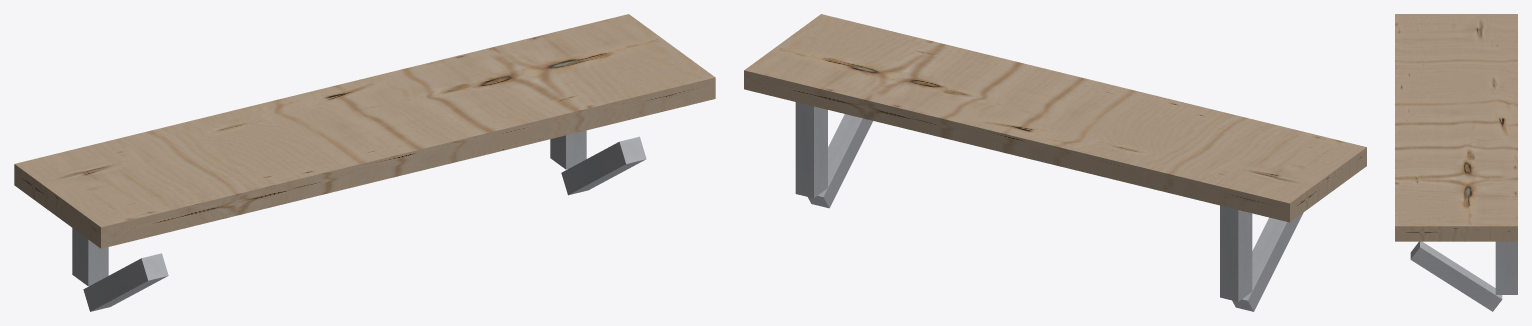
File: Shelf_Wall.fbx
The picture shows the model from 3 angles, left to right: view 1: azimuth 30°, elevation 25°; view 2: azimuth 150°, elevation 25°; view 3: azimuth 270°, elevation 25°; orthographic projection. The views are drawn at different scales.
Parts seen in each view (by area): view 1: Shelf_Wall; view 2: Shelf_Wall; view 3: Shelf_Wall.
Boxes of the visible parts, x1,y1,x2,y2 form: Shelf_Wall: (14, 14, 715, 311); Shelf_Wall: (744, 14, 1366, 311); Shelf_Wall: (1395, 14, 1517, 311).
Size of the model in its own units: 0.9 by 0.2089 by 0.22.
